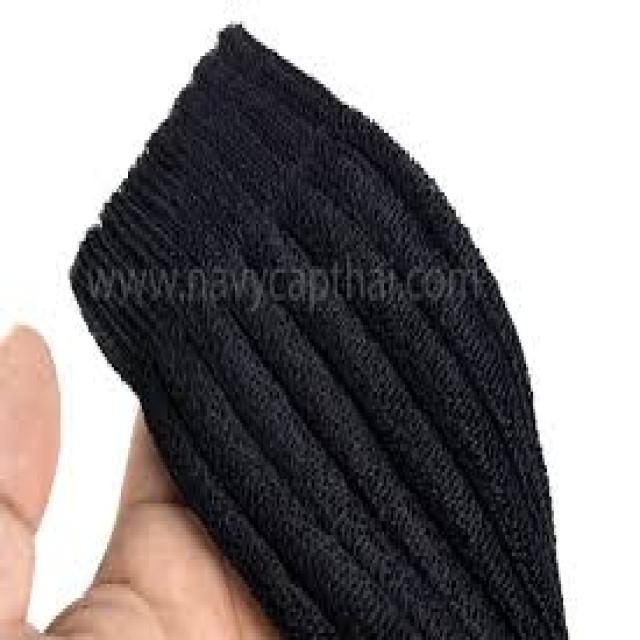sock: (67, 18, 575, 636)
